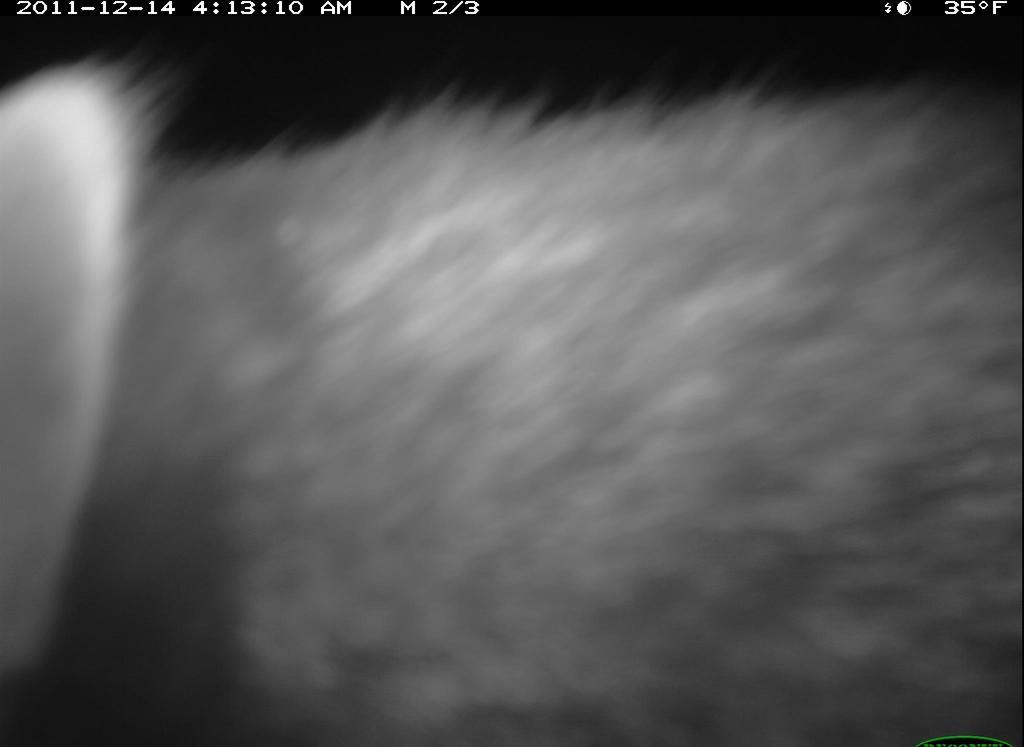raccoon: (3, 75, 1023, 747)
